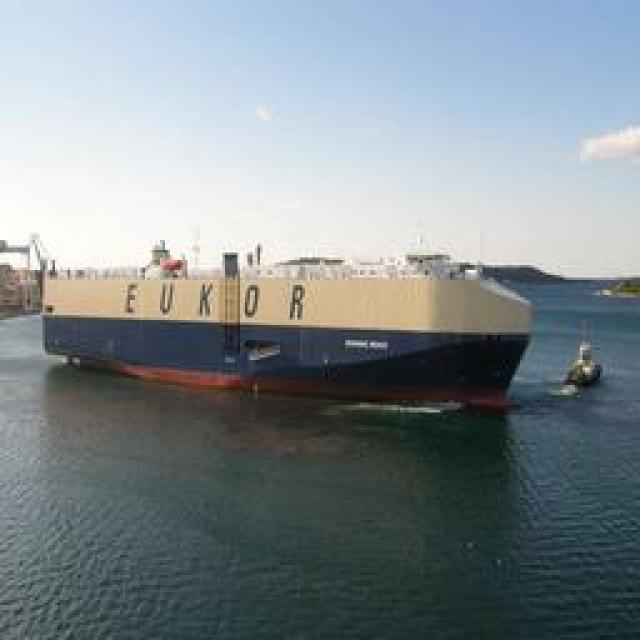CIV_Ship: (46, 240, 534, 408)
